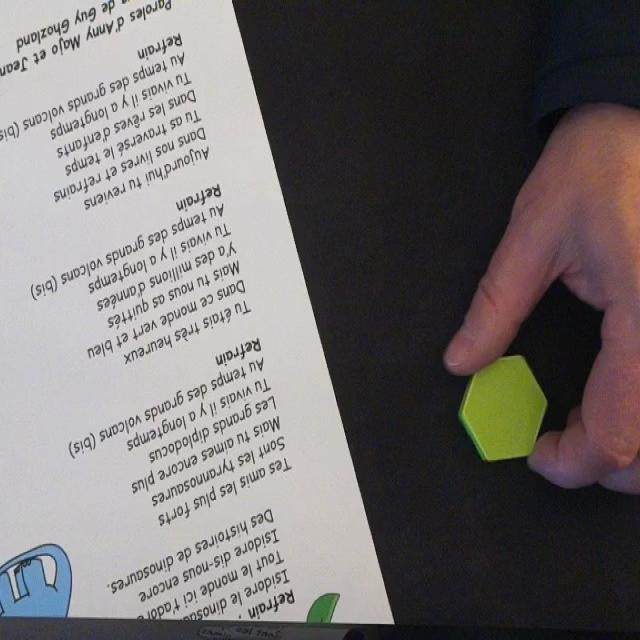hexagon: (458, 350, 549, 462)
